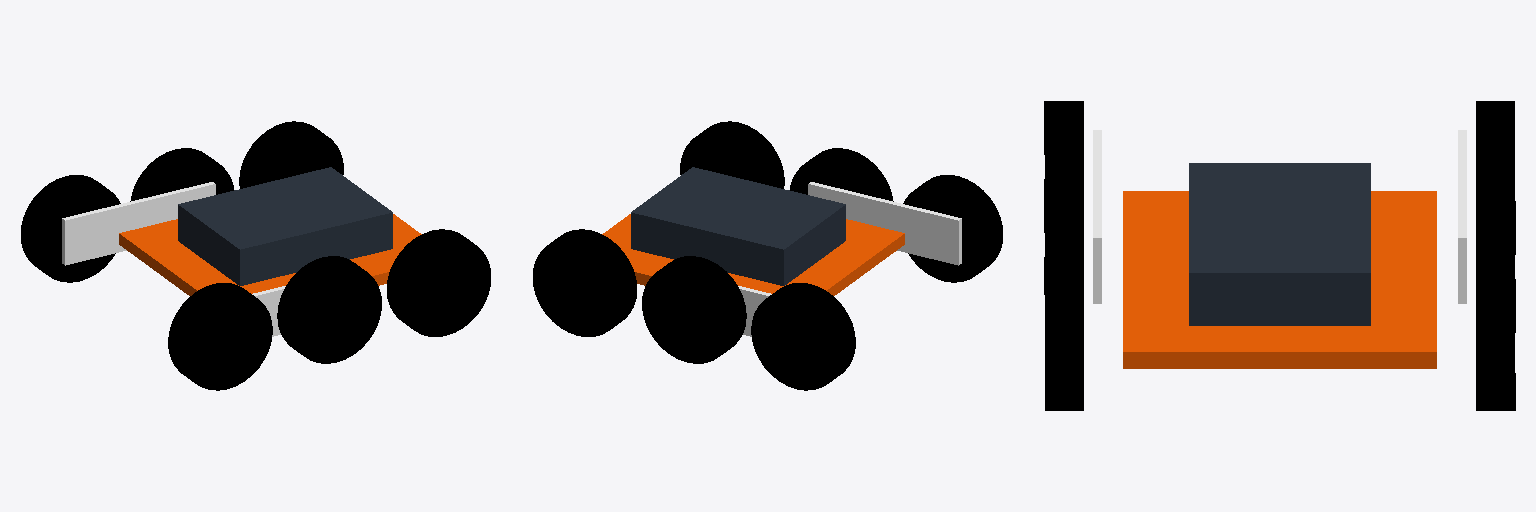
The robot description file, URDF, robot "moolabot":
<?xml version="1.0" encoding="utf-8"?>
<robot
  name="moolabot">
<!--Material Colors-->
  <material name="black">
    <color rgba="0.0 0.0 0.0 1.0"/>
  </material>
  <material name="blue">
    <color rgba="0.203125 0.23828125 0.28515625 1.0"/>
  </material>
  <material name="green">
    <color rgba="0.0 0.8 0.0 1.0"/>
  </material>
  <material name="grey">
    <color rgba="0.2 0.2 0.2 1.0"/>
  </material>
  <material name="orange">
    <color rgba="1.0 0.423529411765 0.0392156862745 1.0"/>
  </material>
  <material name="brown">
    <color rgba="0.870588235294 0.811764705882 0.764705882353 1.0"/>
  </material>
  <material name="red">
    <color rgba="0.80078125 0.12890625 0.1328125 1.0"/>
  </material>
  <material name="white">
    <color rgba="1.0 1.0 1.0 1.0"/>
  </material>
  
<!--Gazebo Colors-->
  <gazebo reference="base_link">
    <material>Gazebo/Orange</material>
  </gazebo>
  <gazebo reference="moolabot_front_right_wheel">
    <material>Gazebo/Black</material>
  </gazebo>
  <gazebo reference="moolabot_front_left_wheel">
    <material>Gazebo/Black</material>
  </gazebo>  
  <gazebo reference="moolabot_rear_right_rocker_rear_wheel">
    <material>Gazebo/Black</material>
  </gazebo>  
  <gazebo reference="moolabot_rear_right_rocker_center_wheel">
    <material>Gazebo/Black</material>
  </gazebo>  
  <gazebo reference="moolabot_rear_left_rocker_rear_wheel">
    <material>Gazebo/Black</material>
  </gazebo>  
  <gazebo reference="moolabot_rear_left_rocker_center_wheel">
    <material>Gazebo/Black</material>
  </gazebo>  
  <gazebo reference="moolabot_battery">
    <material>Gazebo/Blue</material>
  </gazebo>    

<!--base_link-->  
  <link
    name="base_link">
    <inertial>
      <origin
        xyz="0 0 0"
        rpy="0 0 0" />
      <mass
        value="2.8701" />
      <inertia
        ixx="0.019918"
        ixy="0"
        ixz="0"
        iyy="0.042638"
        iyz="0"
        izz="0.061874" />
    </inertial>
    <visual>
      <origin
        xyz="0 0 0"
        rpy="0 0 0" />
      <geometry>
        <box size="0.42 0.345 0.02"/>
      </geometry>
      <material
        name="orange">
      </material>
    </visual>
    <collision>
      <origin
        xyz="0 0 0"
        rpy="0 0 0" />
      <geometry>
        <box size="0.42 0.345 0.02"/>
      </geometry>
    </collision>
  </link>
<!-- Front Right Wheel-->
  <link
    name="moolabot_front_right_wheel">
    <inertial>
      <origin
        xyz="0 0 0"
        rpy="0 0 0" />
      <mass
        value="2.2" />
      <inertia
        ixx="0.005892"
        ixy="0"
        ixz="0"
        iyy="0.005892"
        iyz="0"
        izz="0.010838" />
    </inertial>
    <visual>
      <origin
        xyz="0 0 0"
        rpy="0 0 0" />
      <geometry>
        <cylinder length="0.0435" radius="0.085"/>
      </geometry>
      <material
        name="black">
      </material>
    </visual>
    <collision>
      <origin
        xyz="0 0 0"
        rpy="0 0 0" />
      <geometry>
        <cylinder length="0.0435" radius="0.085"/>
      </geometry>
    </collision>
  </link>
  <joint
    name="moolabot_front_right_joint"
    type="continuous">
    <origin
      xyz="0.14829 -0.23736 0.003175"
      rpy="-1.57 0 0" />
    <parent
      link="base_link" />
    <child
      link="moolabot_front_right_wheel" />
    <axis
      xyz="0 0 1" />
   </joint>
<!--Front Left Wheel -->
   <link
    name="moolabot_front_left_wheel">
    <inertial>
      <origin
        xyz="0 0 0"
        rpy="0 0 0" />
      <mass
        value="2.2" />
      <inertia
        ixx="0.005892"
        ixy="0"
        ixz="0"
        iyy="0.005892"
        iyz="0"
        izz="0.010838" />
	</inertial>
    <visual>
      <origin
        xyz="0 0 0"
        rpy="0 0 0" />
      <geometry>
        <cylinder length="0.0435" radius="0.085"/>
      </geometry>
      <material
        name="black">
      </material>
    </visual>
    <collision>
      <origin
        xyz="0 0 0"
        rpy="0 0 0" />
      <geometry>
        <cylinder length="0.0435" radius="0.085"/>
      </geometry>
    </collision>
  </link>
  <joint
    name="moolabot_front_left_joint"
    type="continuous">
    <origin
      xyz="0.14829 0.23736 0.003175"
      rpy="-1.57 0 0" />
    <parent
      link="base_link" />
    <child
      link="moolabot_front_left_wheel" />
    <axis
      xyz="0 0 1" /> 
   </joint>
<!-- Right rocker -->
   <link
    name="moolabot_rear_right_rocker">
    <inertial>
      <origin
        xyz="0 0 0"
        rpy="0 0 0" />
      <mass
        value="0.32911" />
      <inertia
        ixx="0.00015526"
        ixy="0"
        ixz="0"
        iyy="0.0020318"
        iyz="0"
        izz="0.0018788" />
    </inertial>
    <visual>
      <origin
        xyz="0 0 0"
        rpy="0 0 0" />
      <geometry>
        <box size="0.28 0.01 0.08" />
      </geometry>
      <material
        name="white">
      </material>
    </visual>
    <collision>
      <origin
        xyz="0 0 0"
        rpy="0 0 0" />
      <geometry>
        <box size="0.28 0.01 0.08" />
      </geometry>
    </collision>
  </link>
  <joint
    name="moolabot_rear_right_joint"
    type="revolute">
    <origin
      xyz="-0.15651 -0.20097 0.003175"
      rpy="0 0 0" />
    <parent
      link="base_link" />
    <child
      link="moolabot_rear_right_rocker" />
    <axis
      xyz="0 1 0" />
	  <limit effort="10000" velocity="100" lower="-0.523" upper="0.523"/>
	  <joint_properties damping="0.0" friction="0"/>
  </joint>
<!-- Right Rear Wheel-->
  <link
    name="moolabot_rear_right_rocker_rear_wheel">
    <inertial>
      <origin
        xyz="0 0 0"
        rpy="0 0 0" />
      <mass
        value="2.2" />
      <inertia
        ixx="0.005892"
        ixy="0"
        ixz="0"
        iyy="0.005892"
        iyz="0"
        izz="0.010838" />
    </inertial>
    <visual>
      <origin
        xyz="0 0 0"
        rpy="0 0 0" />
      <geometry>
        <cylinder length="0.0435" radius="0.085"/>
      </geometry>
      <material
        name="black">
      </material>
    </visual>
    <collision>
      <origin
        xyz="0 0 0"
        rpy="0 0 0" />
      <geometry>
        <cylinder length="0.0435" radius="0.085"/>
      </geometry>
    </collision>
  </link>
  <joint
    name="moolabot_rear_right_rocker_rear_joint"
    type="continuous">
    <origin
      xyz="-0.1016 -0.0364 0"
      rpy="-1.57 0 0" />
    <parent
      link="moolabot_rear_right_rocker" />
    <child
      link="moolabot_rear_right_rocker_rear_wheel" />
    <axis
      xyz="0 0 1" />
  </joint> 
<!-- Right Center Wheel -->
  <link
    name="moolabot_rear_right_rocker_center_wheel">
    <inertial>
      <origin
        xyz="0 0 0"
        rpy="0 0 0" />
      <mass
        value="2.2" />
      <inertia
        ixx="0.005892"
        ixy="0"
        ixz="0"
        iyy="0.005892"
        iyz="0"
        izz="0.010838" />
    </inertial>
    <visual>
      <origin
        xyz="0 0 0"
        rpy="0 0 0" />
      <geometry>
        <cylinder length="0.0435" radius="0.085"/>
      </geometry>
      <material
        name="black">
      </material>
    </visual>
    <collision>
      <origin
        xyz="0 0 0"
        rpy="0 0 0" />
      <geometry>
        <cylinder length="0.0435" radius="0.085"/>
      </geometry>
    </collision>
  </link>
  <joint
    name="moolabot_rear_right_rocker_center_joint"
    type="continuous">
    <origin
      xyz="0.1016 -0.0364 0"
      rpy="-1.57 0 0" />
    <parent
      link="moolabot_rear_right_rocker" />
    <child
      link="moolabot_rear_right_rocker_center_wheel" />
    <axis
      xyz="0 0 1" /> 
  </joint>
<!-- Rocker Left -->
  <link
    name="moolabot_rear_left_rocker">
    <inertial>
      <origin
        xyz="0 0 0"
        rpy="0 0 0" />
      <mass
        value="0.32911" />
      <inertia
        ixx="0.00015526"
        ixy="0"
        ixz="0"
        iyy="0.0020318"
        iyz="0"
        izz="0.0018788" />
    </inertial>
    <visual>
      <origin
        xyz="0 0 0"
        rpy="0 0 0" />
      <geometry>
        <box size="0.28 0.01 0.08" />
      </geometry>
      <material
        name="white">
      </material>
    </visual>
    <collision>
      <origin
        xyz="0 0 0"
        rpy="0 0 0" />
      <geometry>
        <box size="0.28 0.01 0.08" />
      </geometry>
    </collision>
  </link>
  <joint
    name="moolabot_rear_left_joint"
    type="revolute">
    <origin
      xyz="-0.15651 0.20097 0.003175"
      rpy="0 0 0" />
    <parent
      link="base_link" />
    <child
      link="moolabot_rear_left_rocker" />
    <axis
      xyz="0 1 0" />
	  <limit effort="10000" velocity="100" lower="-0.523" upper="0.523"/>
	  <joint_properties damping="0" friction="0"/>
  </joint>
<!-- Left Rear Wheel -->
  <link
    name="moolabot_rear_left_rocker_rear_wheel">
    <inertial>
      <origin
        xyz="0 0 0"
        rpy="0 0 0" />
      <mass
        value="2.2" />
      <inertia
        ixx="0.005892"
        ixy="0"
        ixz="0"
        iyy="0.005892"
        iyz="0"
        izz="0.010838" />
    </inertial>
    <visual>
      <origin
        xyz="0 0 0"
        rpy="0 0 0" />
      <geometry>
        <cylinder length="0.0435" radius="0.085"/>
      </geometry>
      <material
        name="black">
      </material>
    </visual>
    <collision>
      <origin
        xyz="0 0 0"
        rpy="0 0 0" />
      <geometry>
        <cylinder length="0.0435" radius="0.085"/>
      </geometry>
    </collision>
  </link>
  <joint
    name="moolabot_rear_left_rocker_rear_joint"
    type="continuous">
    <origin
      xyz="-0.1016 0.0364 0"
      rpy="-1.57 0 0" />
    <parent
      link="moolabot_rear_left_rocker" />
    <child
      link="moolabot_rear_left_rocker_rear_wheel" />
    <axis
      xyz="0 0 1" />
  </joint>
<!-- Left Center Wheel-->
  <link
    name="moolabot_rear_left_rocker_center_wheel">
    <inertial>
      <origin
        xyz="0 0 0"
        rpy="0 0 0" />
      <mass
        value="2.2" />
      <inertia
        ixx="0.005892"
        ixy="0"
        ixz="0"
        iyy="0.005892"
        iyz="0"
        izz="0.010838" />
    </inertial>
    <visual>
      <origin
        xyz="0 0 0"
        rpy="0 0 0" />
      <geometry>
        <cylinder length="0.0435" radius="0.085"/>
      </geometry>
      <material
        name="black">
      </material>
    </visual>
    <collision>
      <origin
        xyz="0 0 0"
        rpy="0 0 0" />
      <geometry>
        <cylinder length="0.0435" radius="0.085"/>
      </geometry>
    </collision>
  </link>
  <joint
    name="moolabot_rear_left_rocker_center_joint"
    type="continuous">
    <origin
      xyz="0.1016 0.0364 0"
      rpy="-1.57 0 0" />
    <parent
      link="moolabot_rear_left_rocker" />
    <child
      link="moolabot_rear_left_rocker_center_wheel" />
    <axis
      xyz="0 0 1" />
  </joint>
<!-- Battery -->
  <link
    name="moolabot_battery">
    <inertial>
      <origin
        xyz="0 0 0"
        rpy="0 0 0" />
      <mass
        value="7" />
      <inertia
        ixx="6.716561"
        ixy="0"
        ixz="0"
        iyy="13.36388"
        iyz="0"
        izz="4.891684" />
    </inertial>
    <visual>
      <origin
        xyz="0 0 0"
        rpy="0 0 0" />
      <geometry>
        <box size="0.285 0.20 0.075" />
      </geometry>
      <material
        name="blue">
      </material>
    </visual>
    <collision>
      <origin
        xyz="0 0 0"
        rpy="0 0 0" />
      <geometry>
        <box size="0.285 0.20 0.075" />
      </geometry>
    </collision>
  </link>
  <joint
    name="moolabot_battery_joint"
    type="fixed">
    <origin
      xyz="0 0 0.0375"
      rpy="0 0 0" />
    <parent
      link="base_link" />
    <child
      link="moolabot_battery" />
    <axis
      xyz="0 0 0" />
  </joint>  
<!--   <link
    name="lidar1">
     <inertial>
      <mass value="0.1"/>
      <inertia ixx="0.001" ixy="0" ixz="0"
               iyy="0.001" iyz="0"
               izz="0.001" />
    </inertial>
    <visual>
      <origin
        xyz="0 0 0"
        rpy="0 0 0" />
      <geometry>
        <mesh
          filename="package://moolabot/meshes/lidar.stl" />
      </geometry>
      <material
        name="White">
        <color
          rgba="1 1 1 1" />
      </material>
    </visual>
  </link>
  <joint
    name="lidar1_joint"
    type="fixed">
    <origin
         xyz="-0.02 0 0.1"
        rpy="0 0 -1.57" />
    <parent
      link="base_link" />
    <child
      link="lidar1" />
  </joint> -->
<!-- Transmissions -->
  
	<transmission name="moolabot_front_left_joint_transmission">
	  <type>transmission_interface/SimpleTransmission</type>
	  <joint name="moolabot_front_left_joint">
		<hardwareInterface>hardware_interface/VelocityJointInterface</hardwareInterface>  
	  </joint>
	  <actuator name="moolabot_front_left_joint_actuator">
		<mechanicalReduction>7</mechanicalReduction>
		<hardwareInterface>VelocityJointInterface</hardwareInterface>
	  </actuator>
	</transmission>

	<transmission name="moolabot_front_right_joint_transmission">
	  <type>transmission_interface/SimpleTransmission</type>
	  <joint name="moolabot_front_right_joint">
		<hardwareInterface>hardware_interface/VelocityJointInterface</hardwareInterface>  
	  </joint>
	  <actuator name="moolabot_front_right_joint_actuator">
		<mechanicalReduction>7</mechanicalReduction>
		<hardwareInterface>VelocityJointInterface</hardwareInterface>
	  </actuator>
	</transmission>
	
	<transmission name="moolabot_rear_left_transmission">
	  <type>transmission_interface/SimpleTransmission</type>
	  <joint name="moolabot_rear_left_joint">
		<hardwareInterface>hardware_interface/VelocityJointInterface</hardwareInterface>  
	  </joint>
	  <actuator name="moolabot_rear_left_actuator">
		<mechanicalReduction>7</mechanicalReduction>
		<hardwareInterface>VelocityJointInterface</hardwareInterface>
	  </actuator>
	</transmission>

	<transmission name="moolabot_rear_right_transmission">
	  <type>transmission_interface/SimpleTransmission</type>
	  <joint name="moolabot_rear_right_joint">
		<hardwareInterface>hardware_interface/VelocityJointInterface</hardwareInterface>  
	  </joint>
	  <actuator name="moolabot_rear_right_actuator">
		<mechanicalReduction>7</mechanicalReduction>
		<hardwareInterface>VelocityJointInterface</hardwareInterface>
	  </actuator>
	</transmission>
	<transmission name="moolabot_rear_left_rocker_center_transmission">
	  <type>transmission_interface/SimpleTransmission</type>
	  <joint name="moolabot_rear_left_rocker_center_joint">
		<hardwareInterface>hardware_interface/VelocityJointInterface</hardwareInterface>  
	  </joint>
	  <actuator name="moolabot_rear_left_rocker_center_actuator">
		<mechanicalReduction>7</mechanicalReduction>
		<hardwareInterface>VelocityJointInterface</hardwareInterface>
	  </actuator>
	</transmission>

	<transmission name="moolabot_rear_right_rocker_center_transmission">
	  <type>transmission_interface/SimpleTransmission</type>
	  <joint name="moolabot_rear_right_rocker_center_joint">
		<hardwareInterface>hardware_interface/VelocityJointInterface</hardwareInterface>  
	  </joint>
	  <actuator name="moolabot_rear_right_rocker_center_actuator">
		<mechanicalReduction>7</mechanicalReduction>
		<hardwareInterface>VelocityJointInterface</hardwareInterface>
	  </actuator>
	</transmission>
	
	<transmission name="moolabot_rear_left_rocker_rear_transmission">
	  <type>transmission_interface/SimpleTransmission</type>
	  <joint name="moolabot_rear_left_rocker_rear_joint">
		<hardwareInterface>hardware_interface/VelocityJointInterface</hardwareInterface>  
	  </joint>
	  <actuator name="moolabot_rear_left_rocker_rear_actuator">
		<mechanicalReduction>7</mechanicalReduction>
		<hardwareInterface>VelocityJointInterface</hardwareInterface>
	  </actuator>
	</transmission>

	<transmission name="moolabot_rear_right_rocker_rear_transmission">
	  <type>transmission_interface/SimpleTransmission</type>
	  <joint name="moolabot_rear_right_rocker_rear_joint">
		<hardwareInterface>hardware_interface/VelocityJointInterface</hardwareInterface>  
	  </joint>
	  <actuator name="moolabot_rear_right_rocker_rear_actuator">
		<mechanicalReduction>7</mechanicalReduction>
		<hardwareInterface>VelocityJointInterface</hardwareInterface>
	  </actuator>
	</transmission>

<!--Differential Drive plugin-->
  <gazebo>
    <plugin name="front_wheel_controller" filename="libgazebo_ros_diff_drive.so">
      <commandTopic>cmd_vel</commandTopic>
      <odometryTopic>odom</odometryTopic>
      <odometryFrame>odom</odometryFrame>
      <odometrySource>world</odometrySource>
      <publishOdomTF>true</publishOdomTF>
      <robotBaseFrame>base_link</robotBaseFrame>
      <publishWheelTF>false</publishWheelTF>
      <publishTf>true</publishTf>
      <publishWheelJointState>true</publishWheelJointState>
      <legacyMode>false</legacyMode>
      <updateRate>30</updateRate>
      <leftJoint>moolabot_front_left_joint</leftJoint>
      <rightJoint>moolabot_front_right_joint</rightJoint>
      <wheelSeparation>0.48</wheelSeparation>
      <wheelDiameter>0.199687</wheelDiameter>
      <wheelAcceleration>1</wheelAcceleration>
      <wheelTorque>10</wheelTorque>
      <rosDebugLevel>na</rosDebugLevel>
    </plugin>
  </gazebo>
<!--Differential Drive plugin-->
  <gazebo>
    <plugin name="rear_wheel_controller" filename="libgazebo_ros_diff_drive.so">
      <commandTopic>cmd_vel</commandTopic>
      <odometryTopic>odom</odometryTopic>
      <odometryFrame>odom</odometryFrame>
      <odometrySource>world</odometrySource>
      <publishOdomTF>true</publishOdomTF>
      <robotBaseFrame>base_link</robotBaseFrame>
      <publishWheelTF>false</publishWheelTF>
      <publishTf>true</publishTf>
      <publishWheelJointState>true</publishWheelJointState>
      <legacyMode>false</legacyMode>
      <updateRate>30</updateRate>
      <leftJoint>moolabot_rear_left_rocker_rear_joint</leftJoint>
      <rightJoint>moolabot_rear_right_rocker_rear_joint</rightJoint>
      <wheelSeparation>0.48</wheelSeparation>
      <wheelDiameter>0.199687</wheelDiameter>
      <wheelAcceleration>1</wheelAcceleration>
      <wheelTorque>10</wheelTorque>
      <rosDebugLevel>na</rosDebugLevel>
    </plugin>
  </gazebo>
<!--Differential Drive plugin-->
  <gazebo>
    <plugin name="center_wheel_controller" filename="libgazebo_ros_diff_drive.so">
      <commandTopic>cmd_vel</commandTopic>
      <odometryTopic>odom</odometryTopic>
      <odometryFrame>odom</odometryFrame>
      <odometrySource>world</odometrySource>
      <publishOdomTF>true</publishOdomTF>
      <robotBaseFrame>base_link</robotBaseFrame>
      <publishWheelTF>false</publishWheelTF>
      <publishTf>true</publishTf>
      <publishWheelJointState>true</publishWheelJointState>
      <legacyMode>false</legacyMode>
      <updateRate>30</updateRate>
      <leftJoint>moolabot_rear_left_rocker_center_joint</leftJoint>
      <rightJoint>moolabot_rear_right_rocker_center_joint</rightJoint>
      <wheelSeparation>0.48</wheelSeparation>
      <wheelDiameter>0.199687</wheelDiameter>
      <wheelAcceleration>1</wheelAcceleration>
      <wheelTorque>10</wheelTorque>
      <rosDebugLevel>na</rosDebugLevel>
    </plugin>
  </gazebo>
<!--Lidar Gazebo plugin-->
<!--   <gazebo reference="lidar1">
    <material>Gazebo/FlatBlack</material>
    <sensor type="ray" name="lidar1">
      <pose>0 0 0 0 0 0</pose>
      <visualize>false</visualize>
      <update_rate>5</update_rate>
      <ray>
        <scan>
          <horizontal>
            <samples>360</samples>
            <resolution>1</resolution>
            <min_angle>0.0</min_angle>
            <max_angle>6.28319</max_angle>
          </horizontal>
        </scan>
        <range>
          <min>0.120</min>
          <max>4.5</max>
          <resolution>0.015</resolution>
        </range>
        <noise>
          <type>gaussian</type>
          <mean>0.0</mean>
          <stddev>0.01</stddev>
        </noise>
      </ray>
      <plugin name="lidar1_controller" filename="libgazebo_ros_laser.so">
        <topicName>scan</topicName>
        <frameName>lidar1</frameName>
      </plugin>
    </sensor>
  </gazebo> -->

</robot>

--- What the picture shows (computed from the rendered views, not written in the file) ---
The picture shows the robot from 3 angles, left to right: view 1: azimuth 30°, elevation 25°; view 2: azimuth 150°, elevation 25°; view 3: azimuth 270°, elevation 25°; orthographic projection.
Robot: moolabot — 10 links, 9 joints (2 revolute, 6 continuous, 1 fixed); root link base_link; default pose: every joint at zero.
Visible links, largest first — view 1: moolabot_battery, moolabot_rear_right_rocker_center_wheel, moolabot_rear_right_rocker_rear_wheel, moolabot_front_right_wheel, base_link, moolabot_rear_left_rocker_rear_wheel, moolabot_rear_left_rocker, moolabot_front_left_wheel, moolabot_rear_left_rocker_center_wheel, moolabot_rear_right_rocker; view 2: moolabot_battery, moolabot_rear_left_rocker_center_wheel, moolabot_rear_left_rocker_rear_wheel, moolabot_front_left_wheel, base_link, moolabot_rear_right_rocker_rear_wheel, moolabot_rear_right_rocker, moolabot_front_right_wheel, moolabot_rear_right_rocker_center_wheel, moolabot_rear_left_rocker; view 3: base_link, moolabot_battery, moolabot_front_right_wheel, moolabot_front_left_wheel, moolabot_rear_right_rocker_rear_wheel, moolabot_rear_right_rocker_center_wheel, moolabot_rear_left_rocker_rear_wheel, moolabot_rear_left_rocker_center_wheel, moolabot_rear_right_rocker, moolabot_rear_left_rocker.
Link boxes in pixels (x1,y1,x2,y2): moolabot_battery: [178, 167, 392, 285]; moolabot_rear_right_rocker_center_wheel: [277, 256, 381, 363]; moolabot_rear_right_rocker_rear_wheel: [168, 283, 272, 390]; moolabot_front_right_wheel: [387, 229, 490, 336]; base_link: [119, 214, 421, 295]; moolabot_rear_left_rocker_rear_wheel: [21, 175, 120, 282]; moolabot_rear_left_rocker: [62, 182, 215, 265]; moolabot_front_left_wheel: [239, 121, 343, 188]; moolabot_rear_left_rocker_center_wheel: [130, 148, 233, 201]; moolabot_rear_right_rocker: [252, 286, 285, 336]; moolabot_battery: [631, 167, 845, 285]; moolabot_rear_left_rocker_center_wheel: [642, 256, 746, 363]; moolabot_rear_left_rocker_rear_wheel: [751, 283, 855, 390]; moolabot_front_left_wheel: [533, 229, 636, 336]; base_link: [602, 214, 904, 295]; moolabot_rear_right_rocker_rear_wheel: [903, 175, 1002, 282]; moolabot_rear_right_rocker: [808, 182, 961, 265]; moolabot_front_right_wheel: [680, 121, 784, 188]; moolabot_rear_right_rocker_center_wheel: [790, 148, 893, 201]; moolabot_rear_left_rocker: [738, 286, 771, 336]; base_link: [1123, 191, 1436, 368]; moolabot_battery: [1189, 163, 1370, 325]; moolabot_front_right_wheel: [1044, 257, 1083, 410]; moolabot_front_left_wheel: [1476, 257, 1515, 410]; moolabot_rear_right_rocker_rear_wheel: [1044, 101, 1083, 178]; moolabot_rear_right_rocker_center_wheel: [1044, 179, 1083, 256]; moolabot_rear_left_rocker_rear_wheel: [1476, 101, 1515, 254]; moolabot_rear_left_rocker_center_wheel: [1476, 179, 1515, 332]; moolabot_rear_right_rocker: [1093, 130, 1101, 303]; moolabot_rear_left_rocker: [1458, 130, 1466, 303].
Size in the robot's own frame: 0.5764 by 0.5184 by 0.17 metres.
Geometry: primitives only (box / cylinder / sphere), no mesh files.